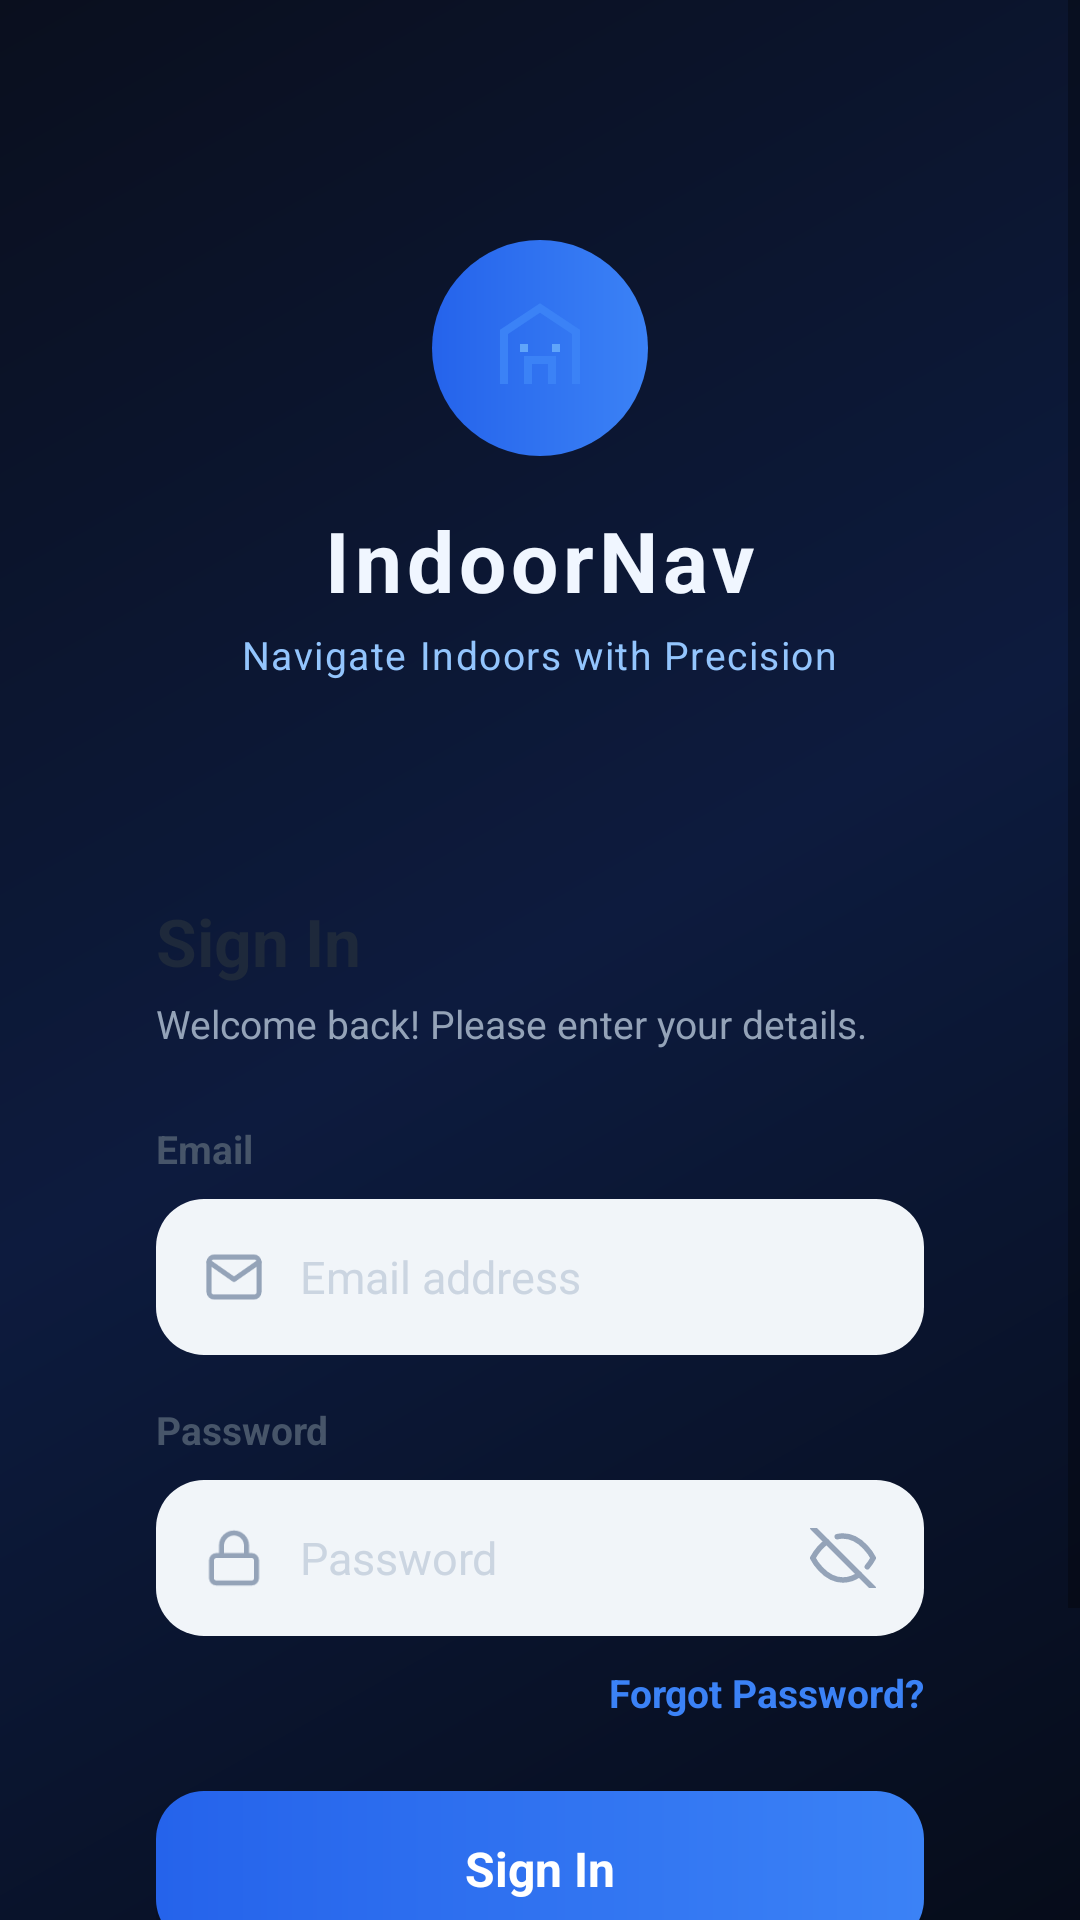

Icon bounding boxes for this 1080*1920 phone screenshot, format bbox=(x1, y1, x2, y2):
eye off: bbox=(810, 1528, 876, 1588)
lock: bbox=(209, 1530, 259, 1586)
